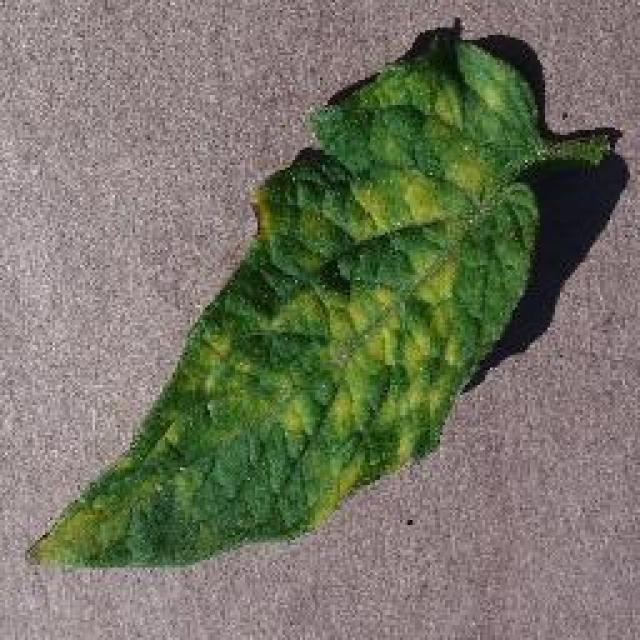leaf mold: (27, 25, 622, 564)
